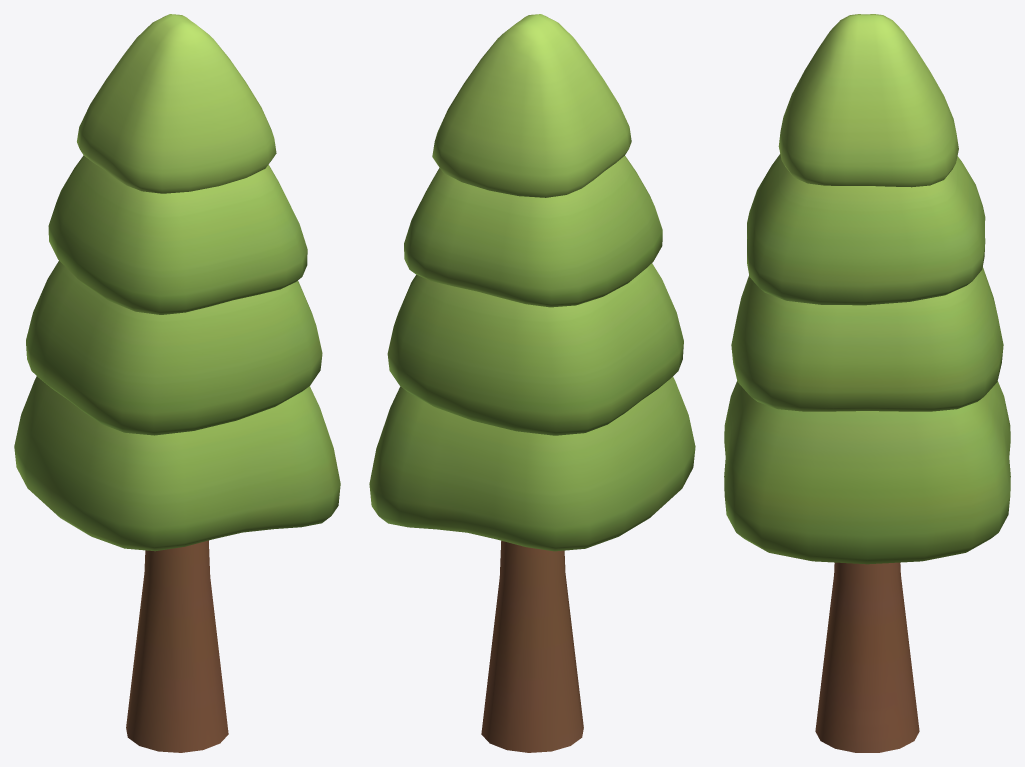
Rendered from tree-long.glb.
3 views of the same model, side by side, from view 1: azimuth 30°, elevation 25°; view 2: azimuth 150°, elevation 25°; view 3: azimuth 270°, elevation 25° (orthographic).
Parts seen in each view (by area): view 1: tree_two; view 2: tree_two; view 3: tree_two.
Part boxes in pixels (<box>): tree_two: <box>14,14,340,752</box>; tree_two: <box>369,14,695,752</box>; tree_two: <box>724,14,1010,752</box>.
Size of the model in its own units: 2.38 by 6.4 by 2.32.
1 material, 1 textured.
